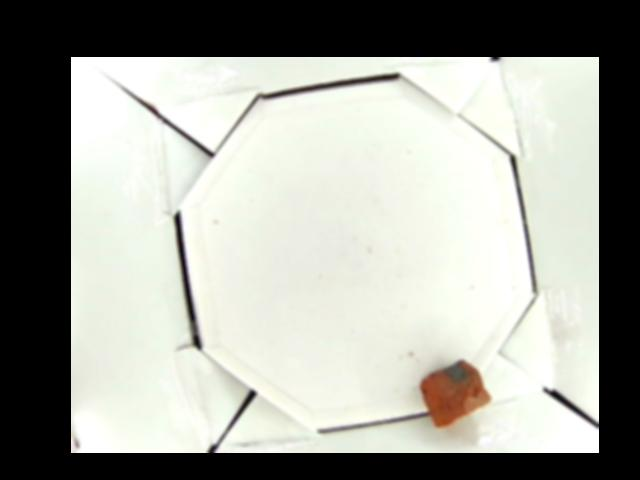Brisk: (419, 358, 490, 426)
